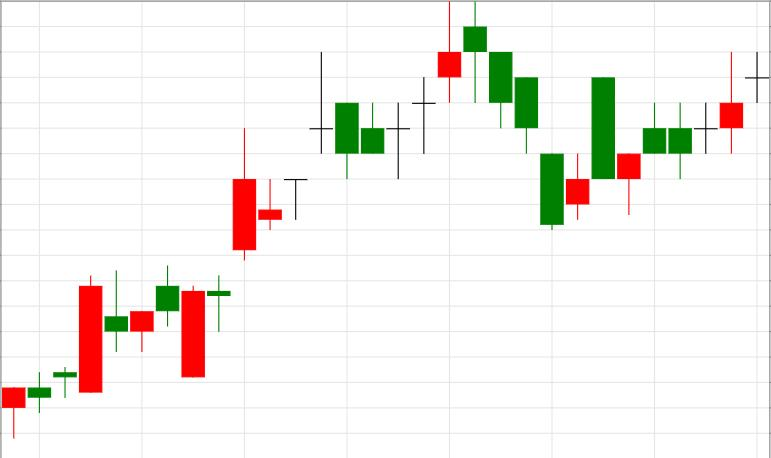shooting_star_fall: (335, 1, 461, 179), (617, 51, 743, 216)
